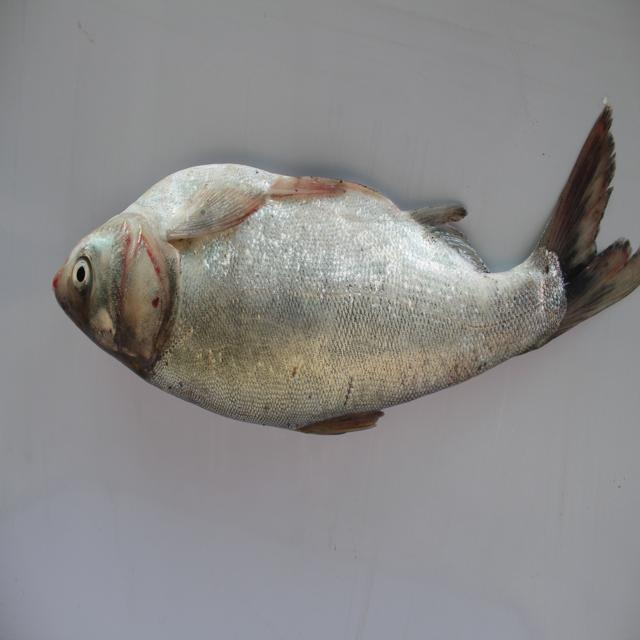SilverCarp: (31, 147, 640, 449)
